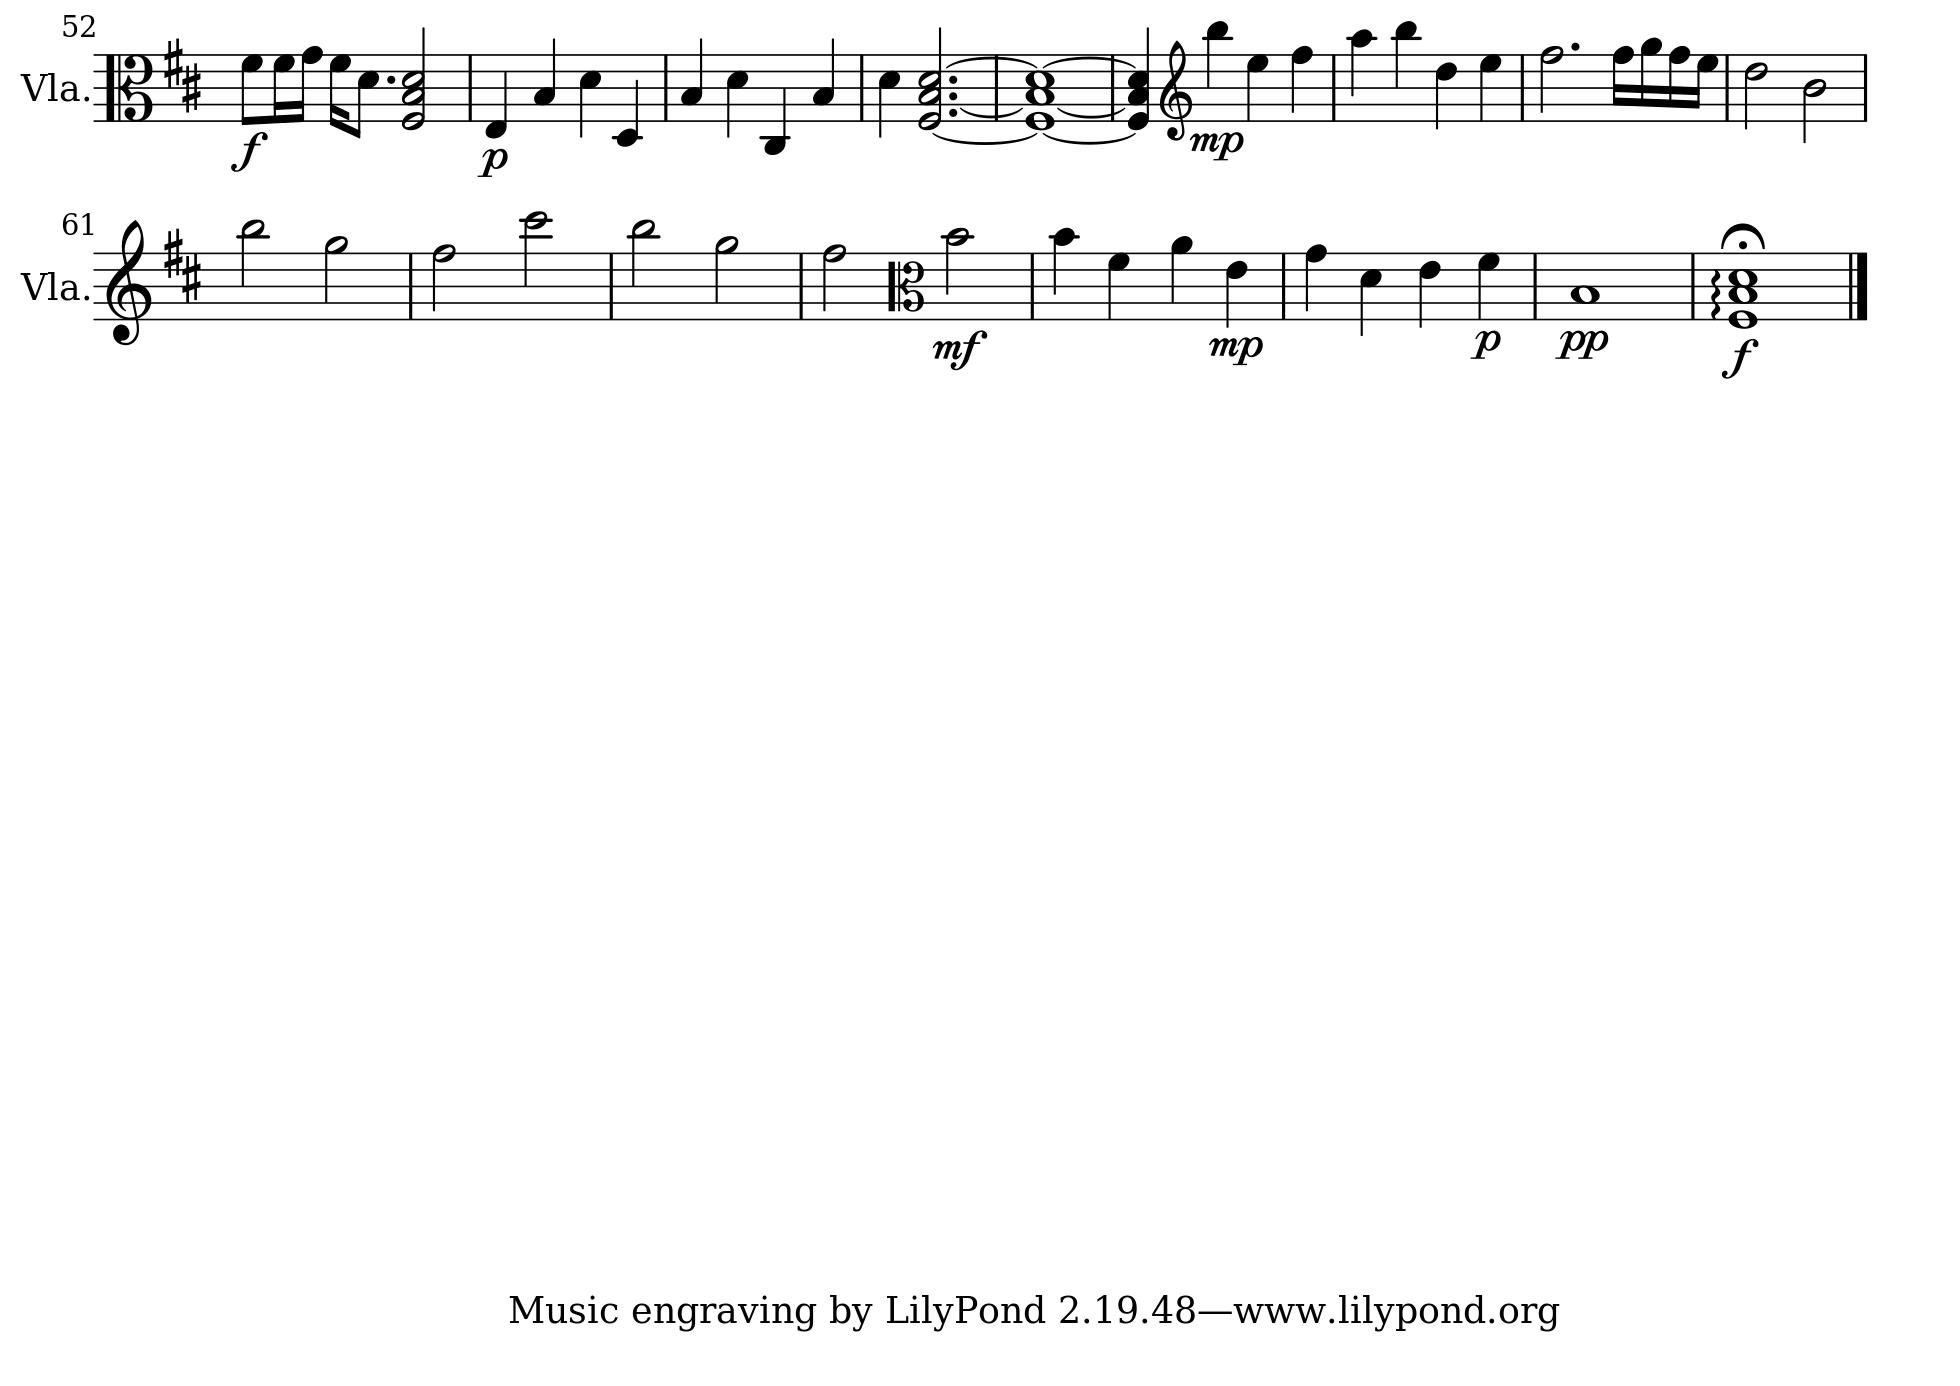1: (79, 208, 94, 238)
16_7: (327, 52, 352, 132), (1692, 52, 1719, 121), (271, 52, 295, 124)
16_8: (294, 43, 322, 124), (1611, 43, 1635, 123), (1668, 43, 1690, 121)
16_9: (1638, 36, 1663, 123)
1_3: (1569, 249, 1602, 321)
1_th: (1023, 55, 1056, 132), (1728, 250, 1759, 328)
2: (78, 12, 96, 37)
2_10: (942, 225, 973, 322)
2_11: (237, 217, 268, 322), (628, 217, 658, 322)
2_12: (520, 208, 552, 322)
2_4: (1803, 51, 1827, 142)
2_6: (1743, 51, 1768, 127)
2_8: (820, 241, 849, 322), (430, 241, 457, 322), (1539, 43, 1566, 123)
2_9: (321, 234, 351, 322), (712, 234, 741, 322)
2_th: (400, 25, 429, 133), (916, 27, 943, 133)
4_-1: (483, 49, 508, 139)
4_-2: (612, 51, 643, 148)
4_-3: (762, 49, 790, 157)
4_10: (1347, 28, 1377, 123), (1050, 226, 1080, 321)
4_11: (1392, 19, 1420, 123), (1204, 19, 1231, 121)
4_3: (532, 34, 558, 121), (679, 36, 705, 121), (811, 36, 835, 121)
4_5: (577, 51, 603, 139), (724, 51, 750, 139), (1359, 249, 1384, 337), (877, 51, 901, 139)
4_6: (1224, 250, 1251, 330), (1434, 52, 1459, 130), (1417, 250, 1443, 328)
4_7: (1245, 52, 1272, 123), (1477, 52, 1504, 123), (1476, 250, 1503, 321), (1107, 250, 1132, 322)
4_8: (1302, 241, 1329, 322), (1290, 43, 1315, 124)
4_9: (1170, 234, 1194, 321)
4_th: (1123, 22, 1155, 127)
5: (61, 10, 76, 37)
6: (61, 208, 79, 237)
8_5: (352, 52, 381, 139)
8_7: (238, 52, 264, 126)
Arpeggio: (1707, 262, 1728, 322)
Cclef: (103, 52, 154, 121), (886, 250, 927, 322)
D_S: (162, 226, 202, 303), (163, 37, 202, 112)
Fermata_above: (1719, 220, 1767, 252)
Final_barline: (1845, 250, 1872, 319)
Gclef: (103, 217, 151, 346), (1159, 39, 1194, 139)
Single_barline: (1023, 252, 1042, 319), (1326, 52, 1344, 121), (1275, 250, 1293, 319), (1719, 54, 1737, 121), (402, 252, 420, 319), (793, 252, 811, 319), (1515, 55, 1533, 121), (1527, 253, 1545, 319), (462, 52, 478, 121), (853, 52, 870, 120), (657, 54, 673, 121), (1857, 54, 1873, 121), (603, 252, 619, 319), (1105, 55, 1122, 120), (1686, 253, 1701, 318), (990, 60, 1005, 118)
Slur: (931, 133, 1038, 145), (1039, 133, 1137, 145), (943, 55, 1039, 67), (1044, 55, 1137, 67), (1057, 106, 1128, 118), (957, 106, 1023, 118)
Vla: (22, 265, 81, 307), (22, 67, 79, 109)
dot: (385, 72, 397, 85), (945, 73, 958, 85), (1569, 40, 1581, 52), (946, 90, 958, 102), (946, 106, 958, 118)
f: (1720, 334, 1761, 379), (229, 130, 268, 172)
mf: (931, 328, 988, 370)
mp: (1206, 331, 1264, 370), (1188, 129, 1245, 163)
p: (475, 145, 508, 180), (1471, 327, 1503, 361)
pp: (1555, 327, 1608, 361)
